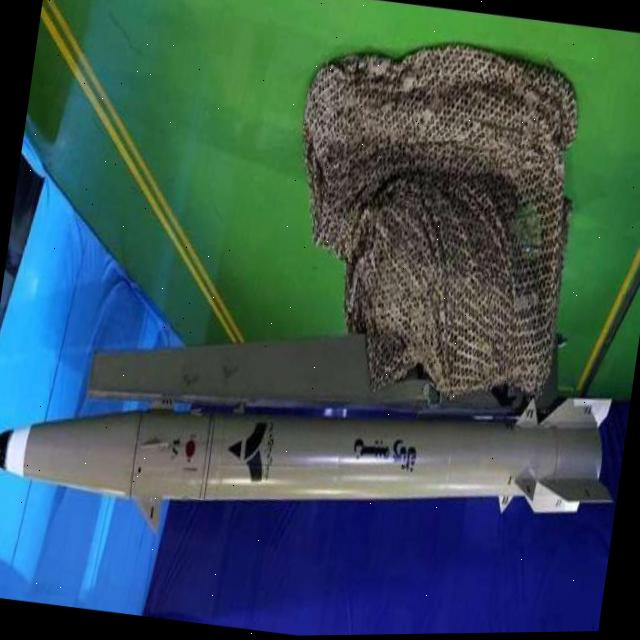missile: (0, 303, 624, 572)
